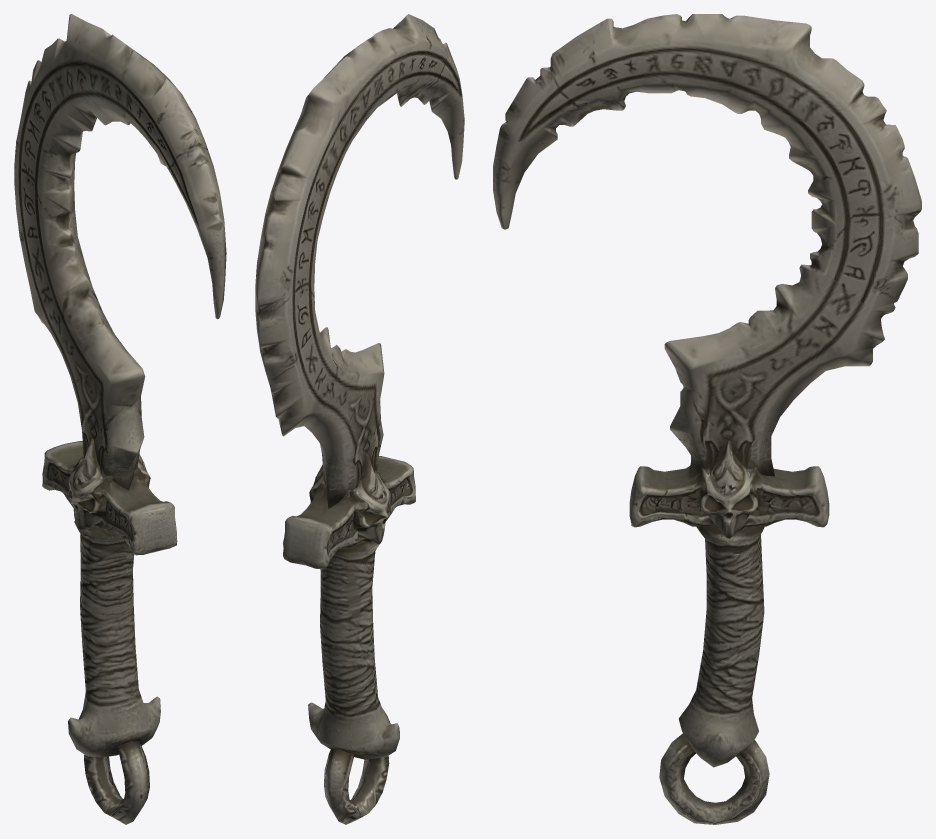
File: gear_sickle.glb
3 renders of one model, left to right at view 1: azimuth 30°, elevation 25°; view 2: azimuth 150°, elevation 25°; view 3: azimuth 270°, elevation 25°, orthographic. The views are drawn at different scales.
Visible parts, largest first — view 1: tripo_node_93b64a08-c900-4f0a-b2d3-1484f5754d6a; view 2: tripo_node_93b64a08-c900-4f0a-b2d3-1484f5754d6a; view 3: tripo_node_93b64a08-c900-4f0a-b2d3-1484f5754d6a.
Boxes of the visible parts, x1,y1,x2,y2 form: tripo_node_93b64a08-c900-4f0a-b2d3-1484f5754d6a: (14,14,226,824); tripo_node_93b64a08-c900-4f0a-b2d3-1484f5754d6a: (255,14,464,824); tripo_node_93b64a08-c900-4f0a-b2d3-1484f5754d6a: (493,14,921,824).
Size of the model in its own units: 0.074 by 0.6 by 0.2876.
1 material, 1 textured.
